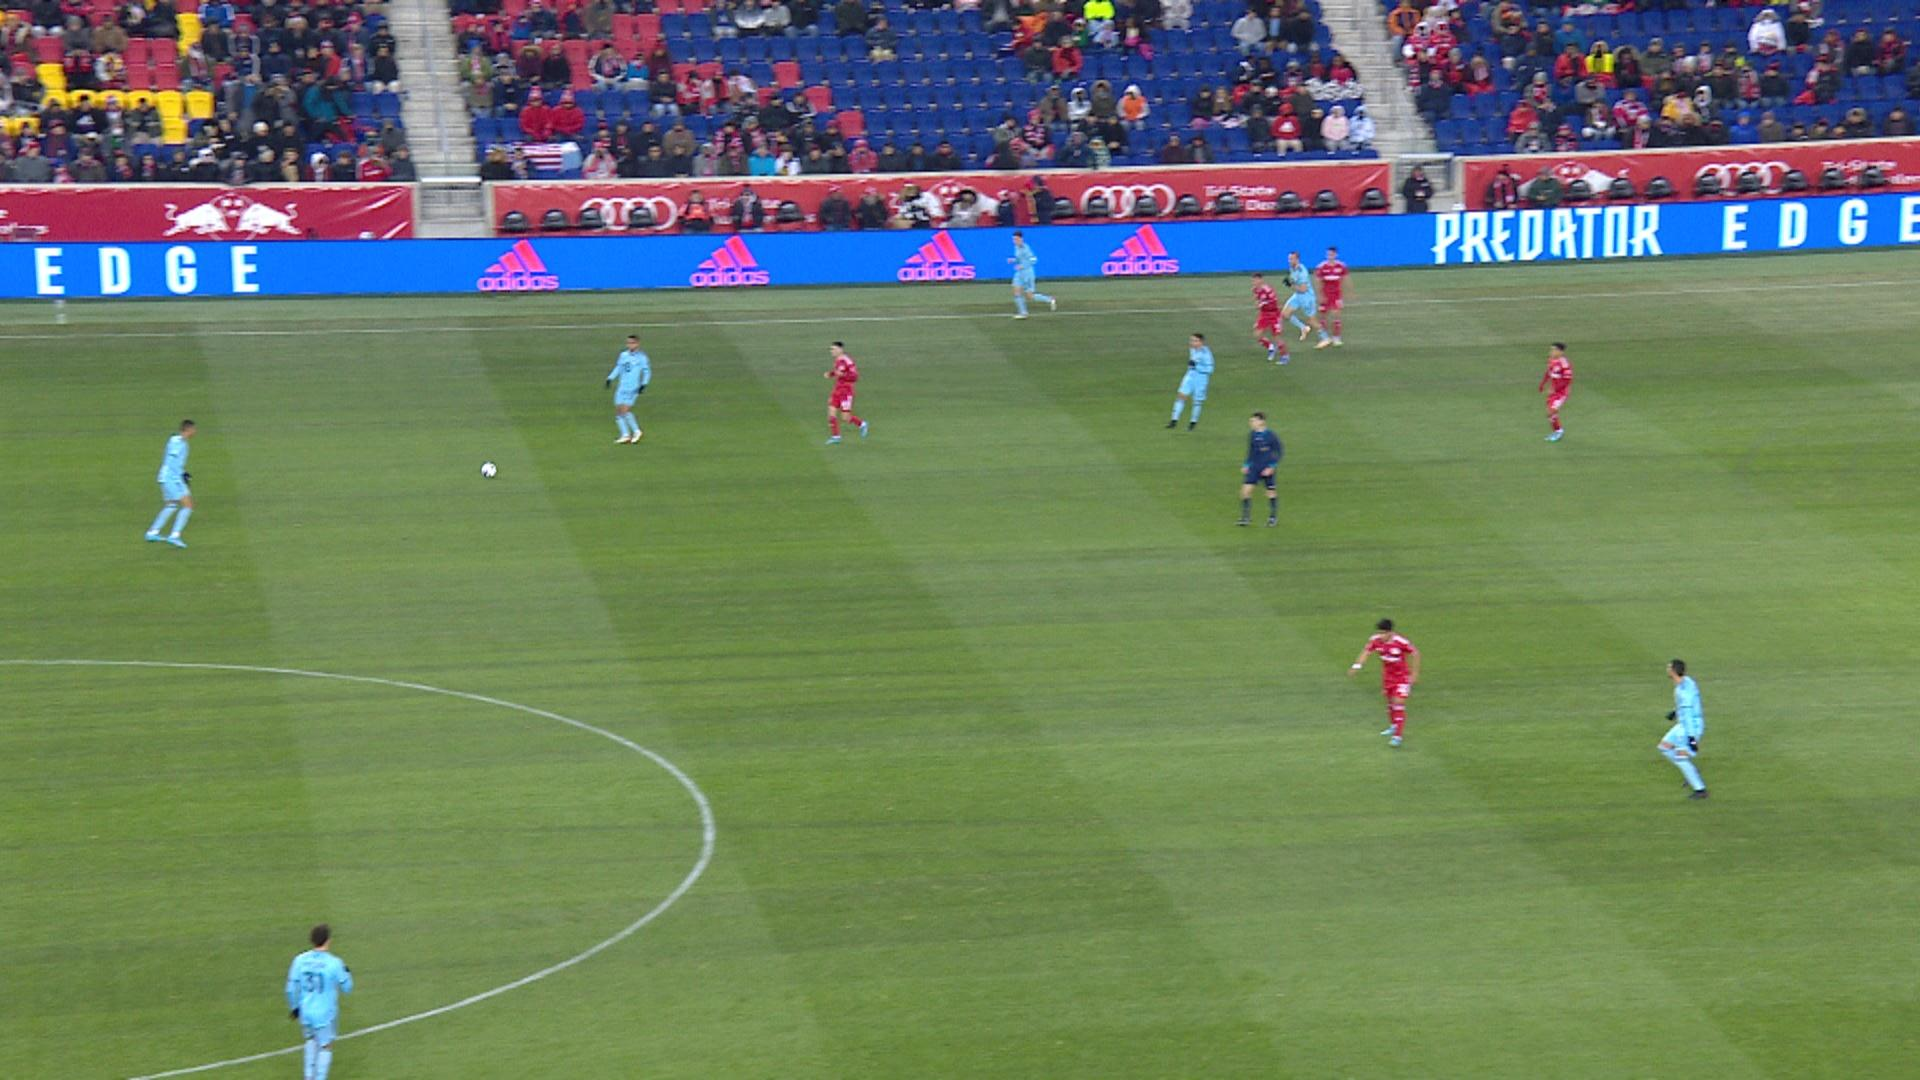football: (480, 459, 498, 479)
